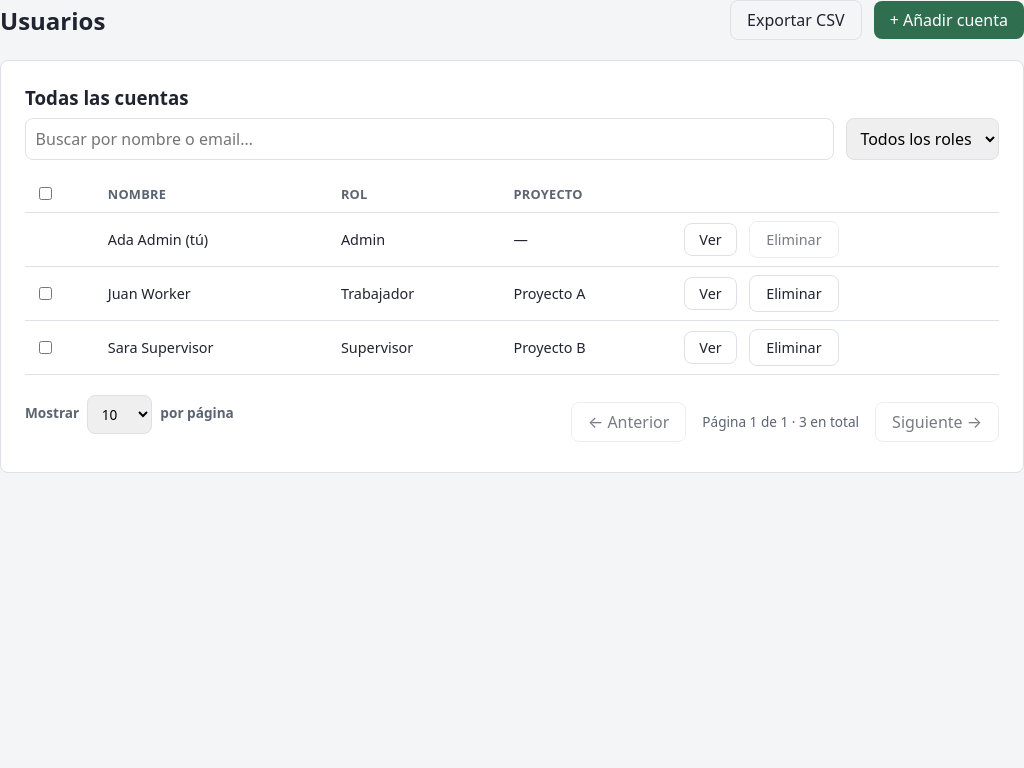
Test: AdminUsers › crea una cuenta y muestra el aviso de correo enviado
Expected: the text "Juan Worker" is shown, [98,266,331,320]
Click the button "+ Añadir cuenta".
click(949, 20)  # box [874,1,1023,39]
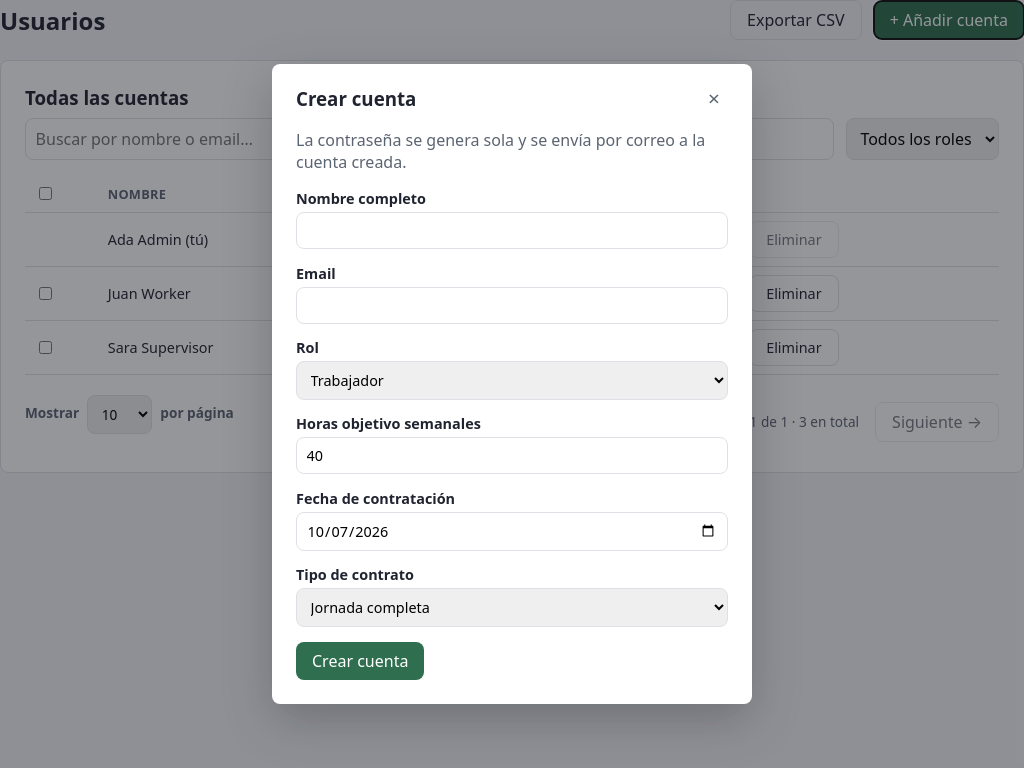
Type "Nuevo Usuario" into the field labelled "Nombre completo".
click(512, 231); type("Nuevo Usuario")  # box [296,212,728,249]
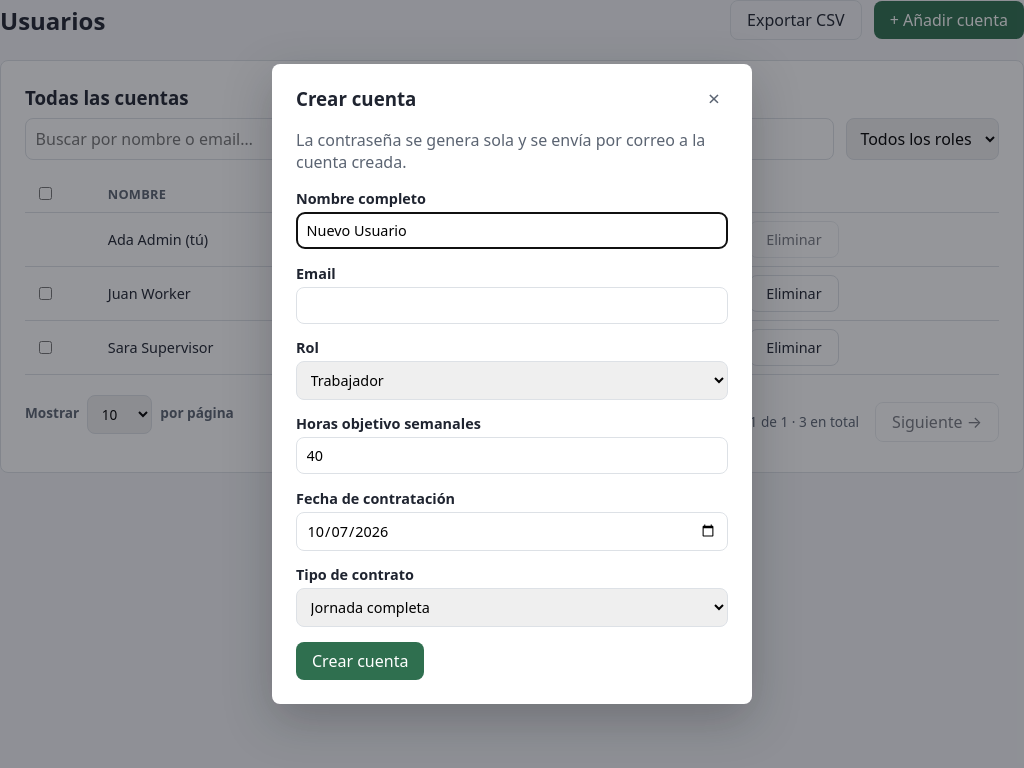
Type "nuevo@test.dev" into the field labelled "Email".
click(512, 305); type("nuevo@test.dev")  # box [296,287,728,324]
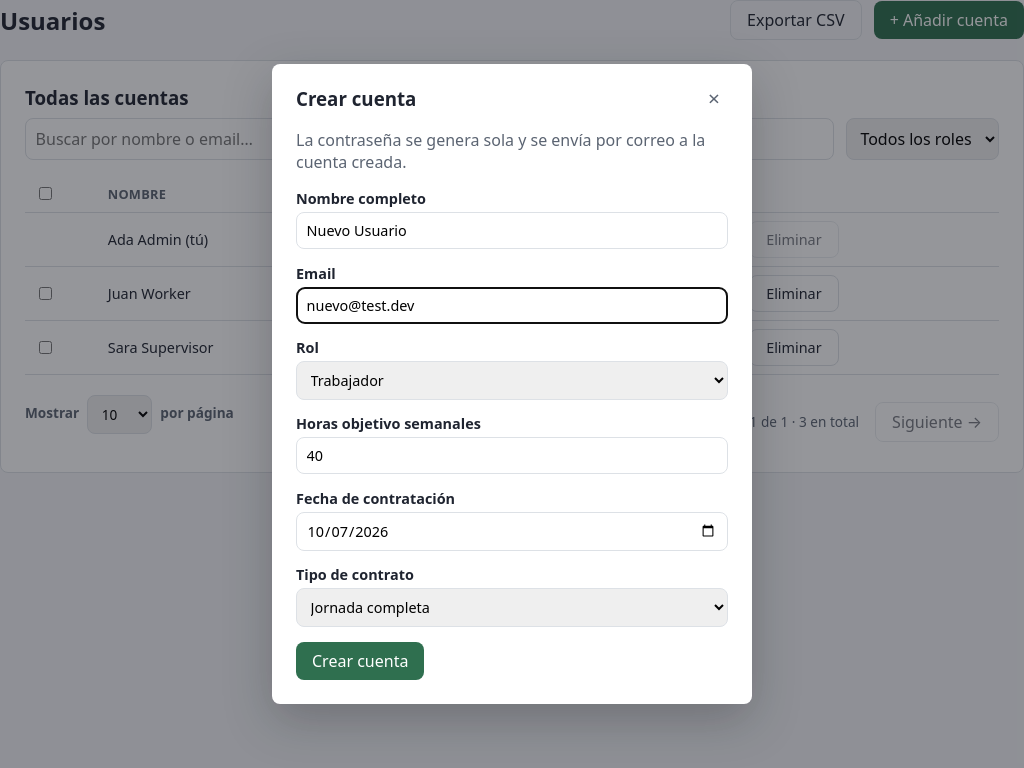
Click the button "Crear cuenta".
click(360, 661)  # box [296,642,424,680]
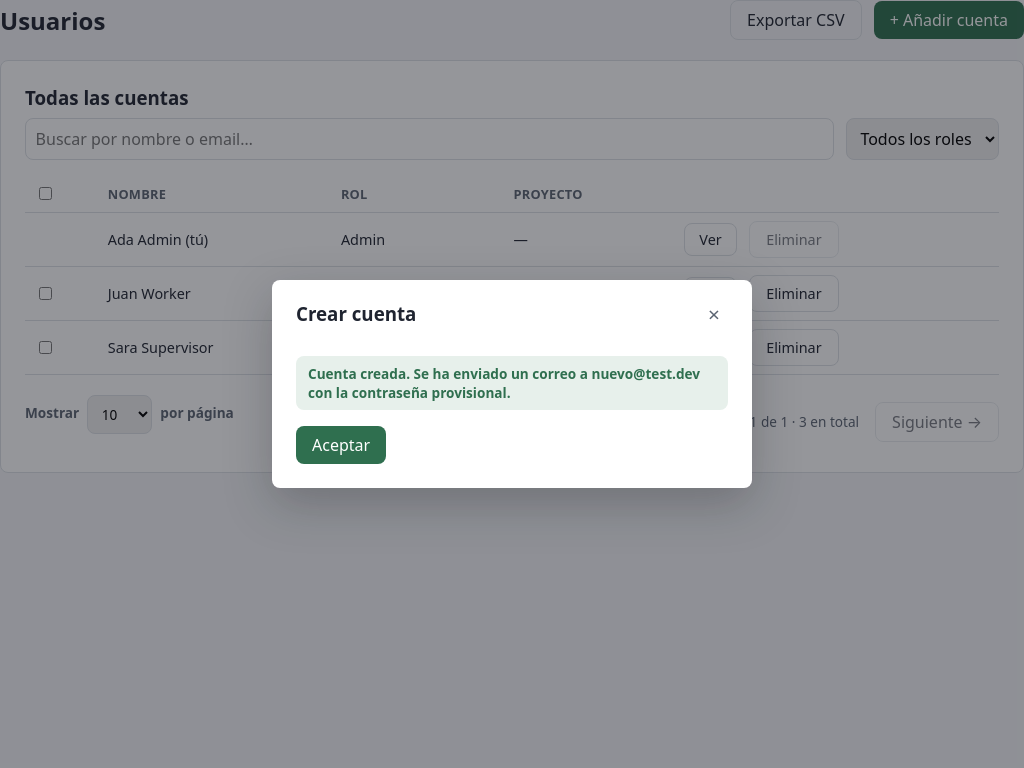
// Aceptar cierra el modal y recarga la lista.
Click the button "Aceptar".
click(341, 445)  # box [296,426,386,464]
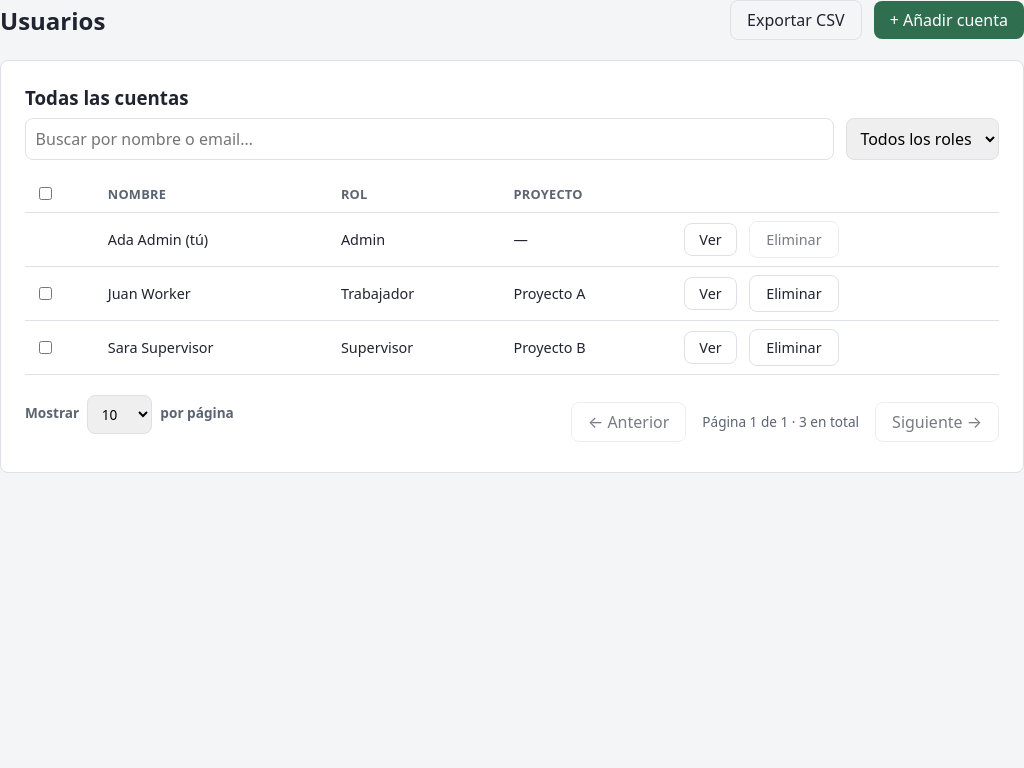
Expected: the dialog is gone
